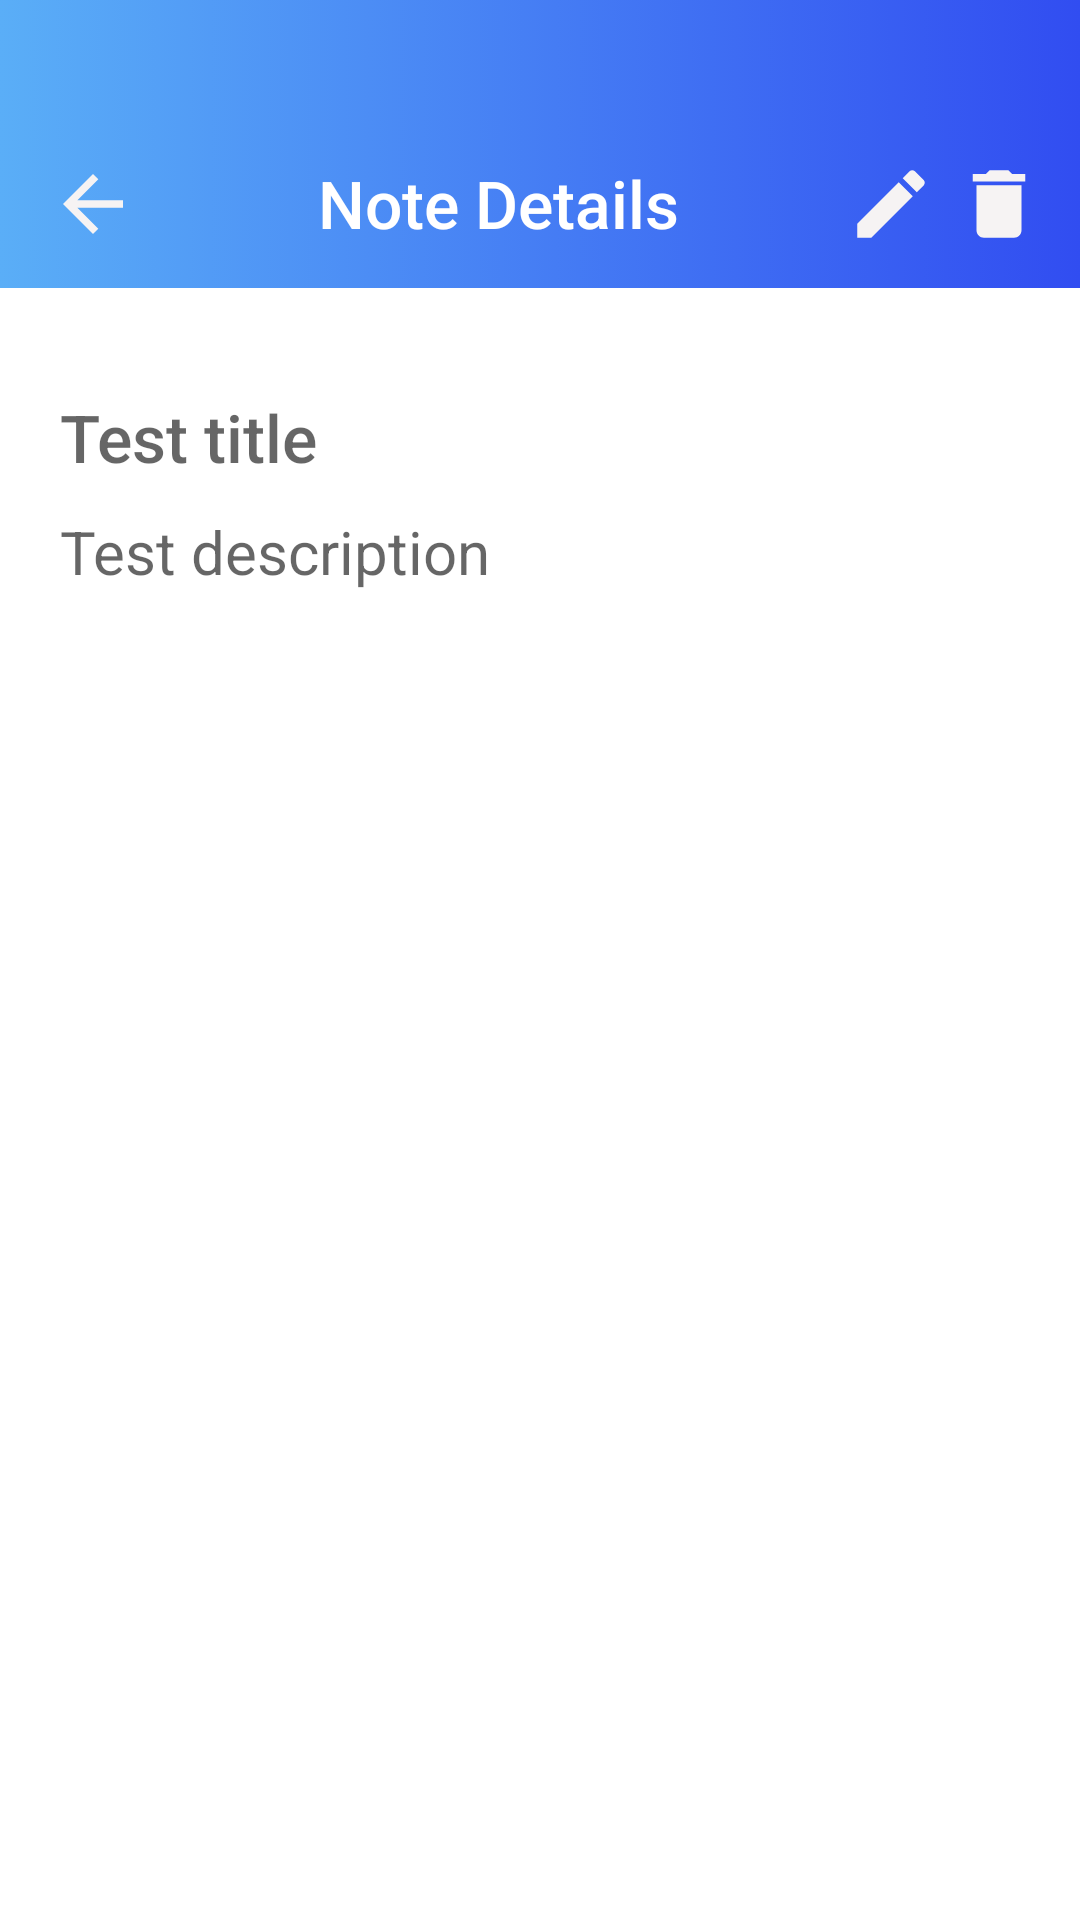

Locate icon controls on the screen. Image size 1080*1920, boxes as box=[x1, y1, x2, y2].
back: box=[63, 174, 123, 234]
delete: box=[972, 170, 1026, 238]
edit: box=[857, 170, 925, 238]
